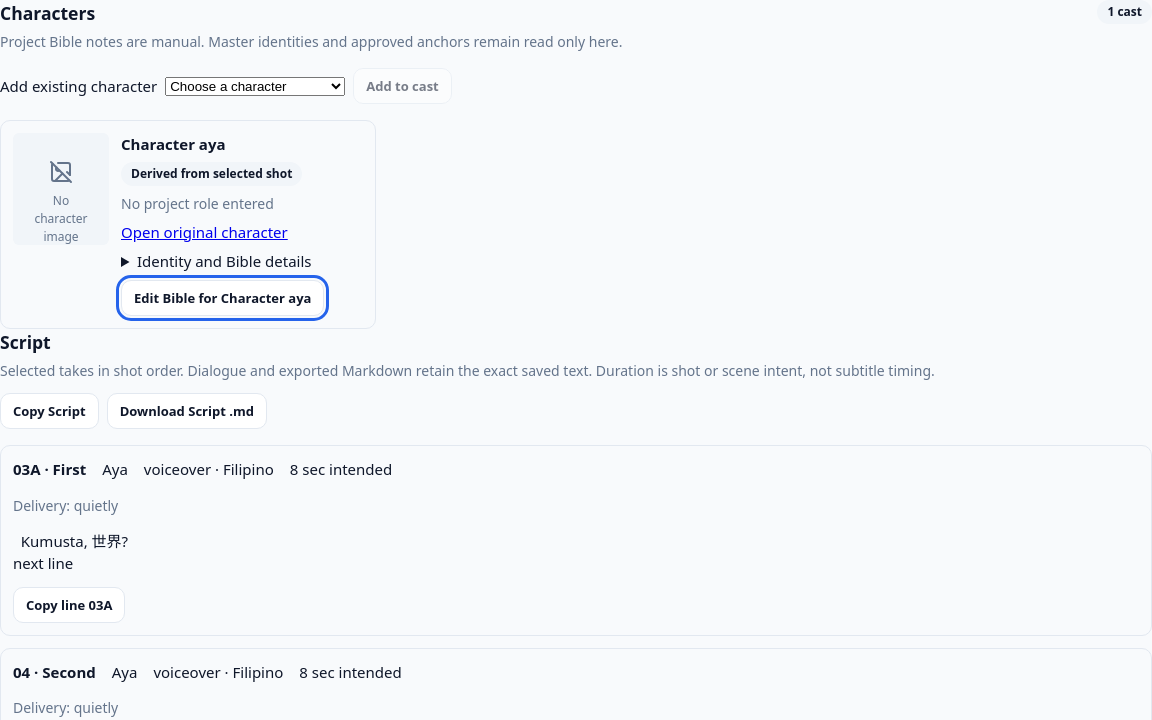
Scenario: keeps one accessible dialog, closes on Escape and restores focus
Click the button "Edit Bible for Character aya": point(223, 298) [121,280,324,316]
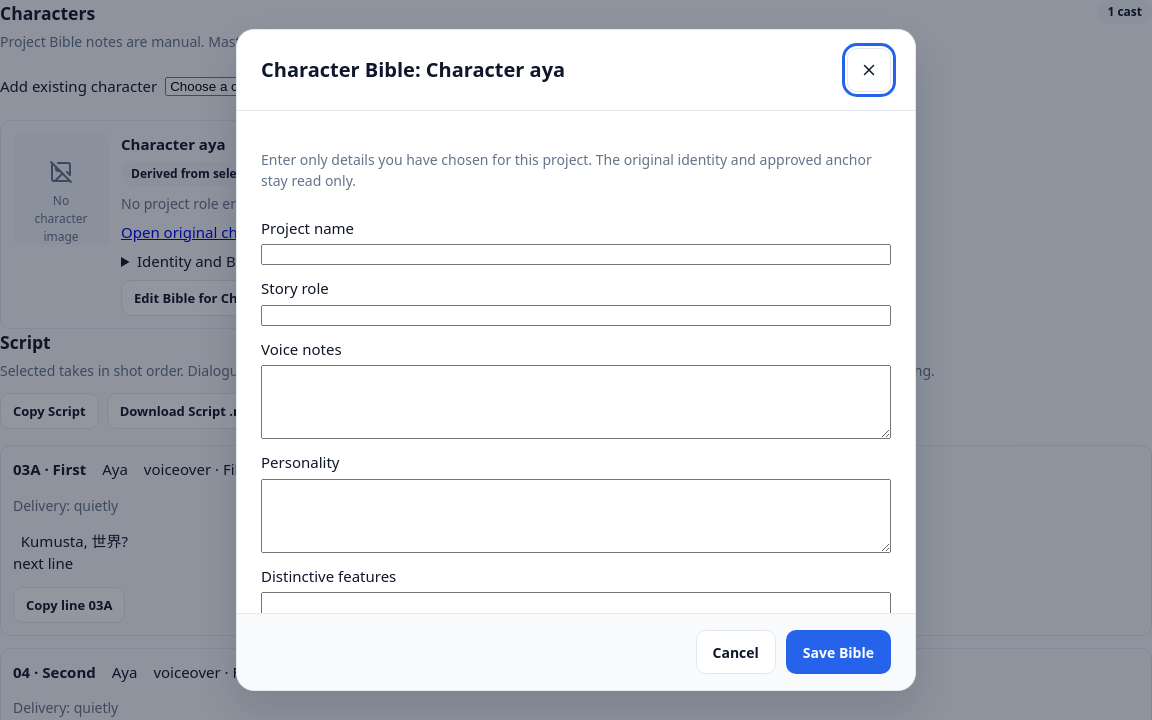
Now the number of dialogs is 1, box [236,29,916,691]
Press Escape
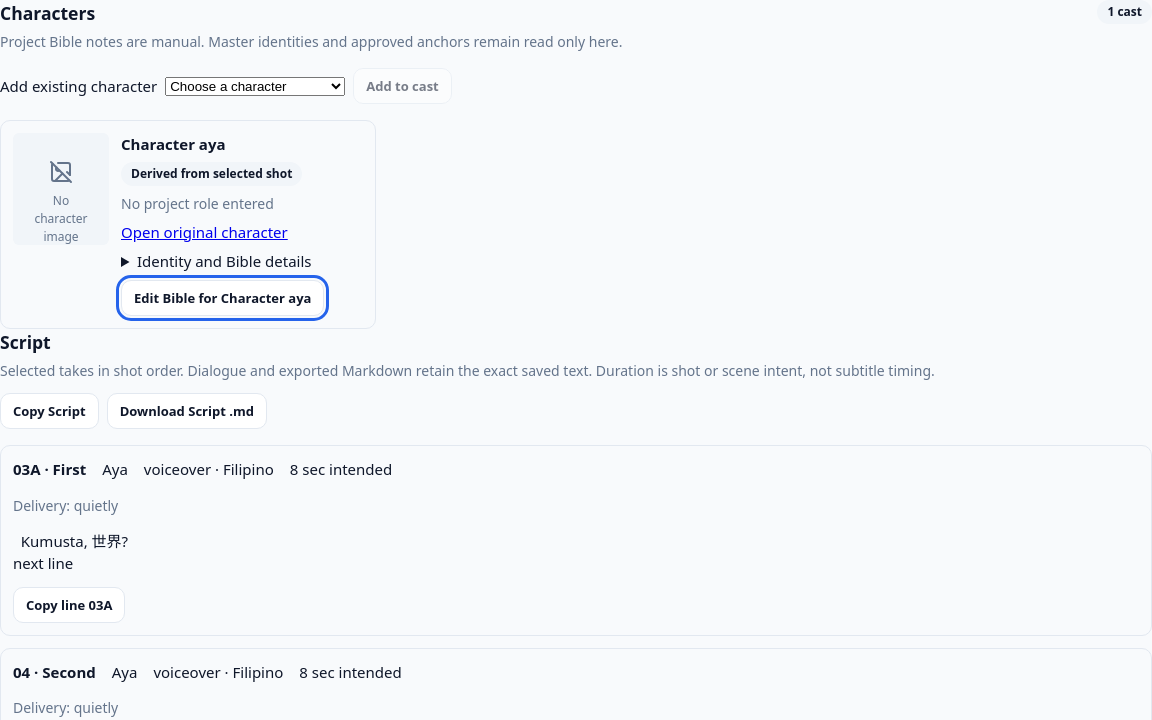
Now the dialog is gone
